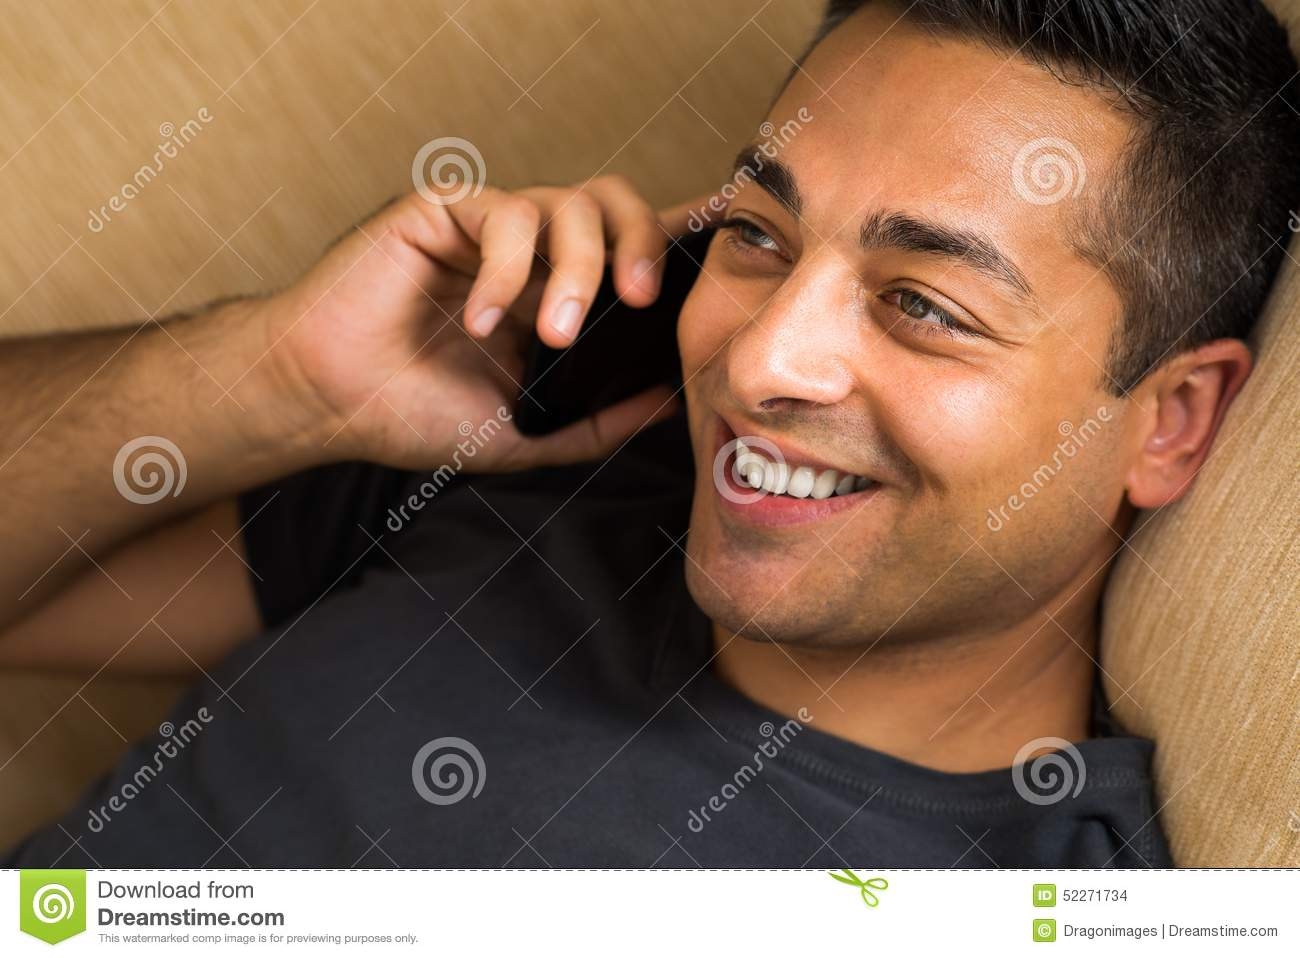phone: (506, 204, 715, 444)
talk: (265, 110, 1042, 650)
